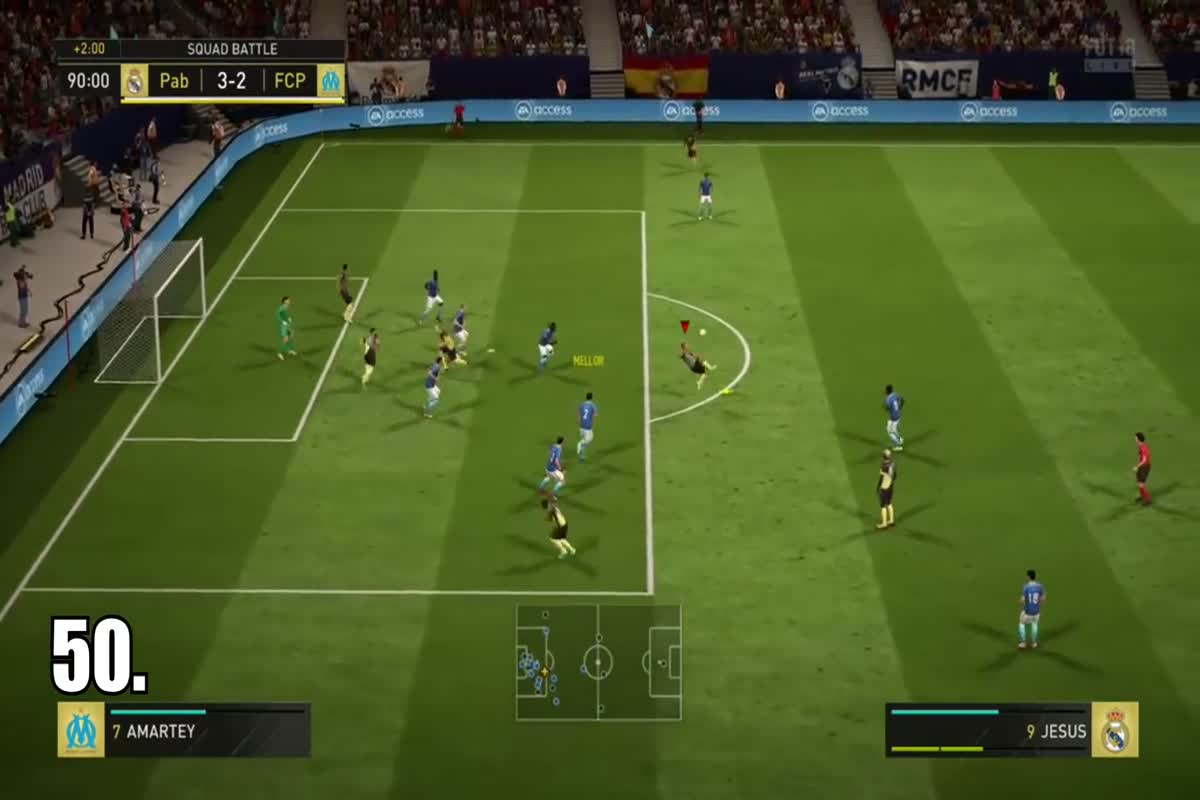ball: (693, 322, 716, 344)
